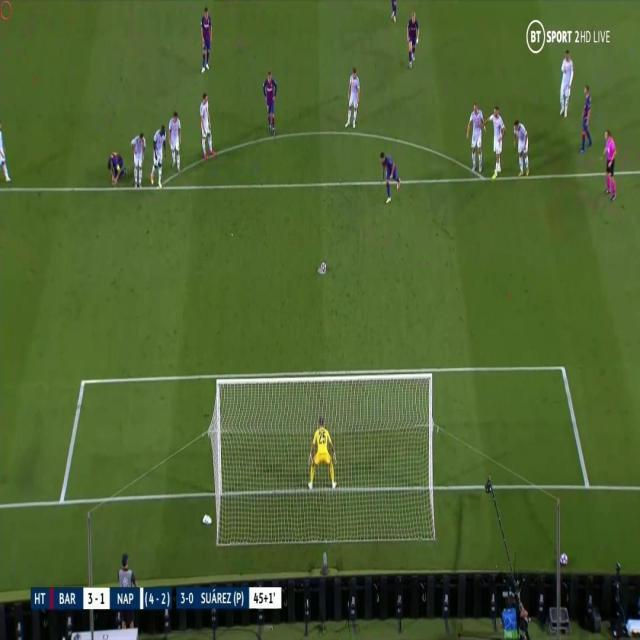ball: (317, 259, 328, 276)
goalkeeper: (306, 416, 339, 492)
player: (487, 103, 507, 177), (467, 98, 486, 175), (197, 91, 216, 160), (376, 150, 401, 201), (576, 85, 595, 152), (148, 122, 167, 188), (558, 45, 575, 118), (261, 67, 278, 135), (512, 117, 531, 177), (344, 65, 361, 129), (197, 5, 213, 73), (128, 131, 147, 188), (405, 9, 421, 67), (168, 107, 182, 171), (0, 123, 13, 184), (106, 146, 126, 183)
referee: (598, 125, 619, 198)
